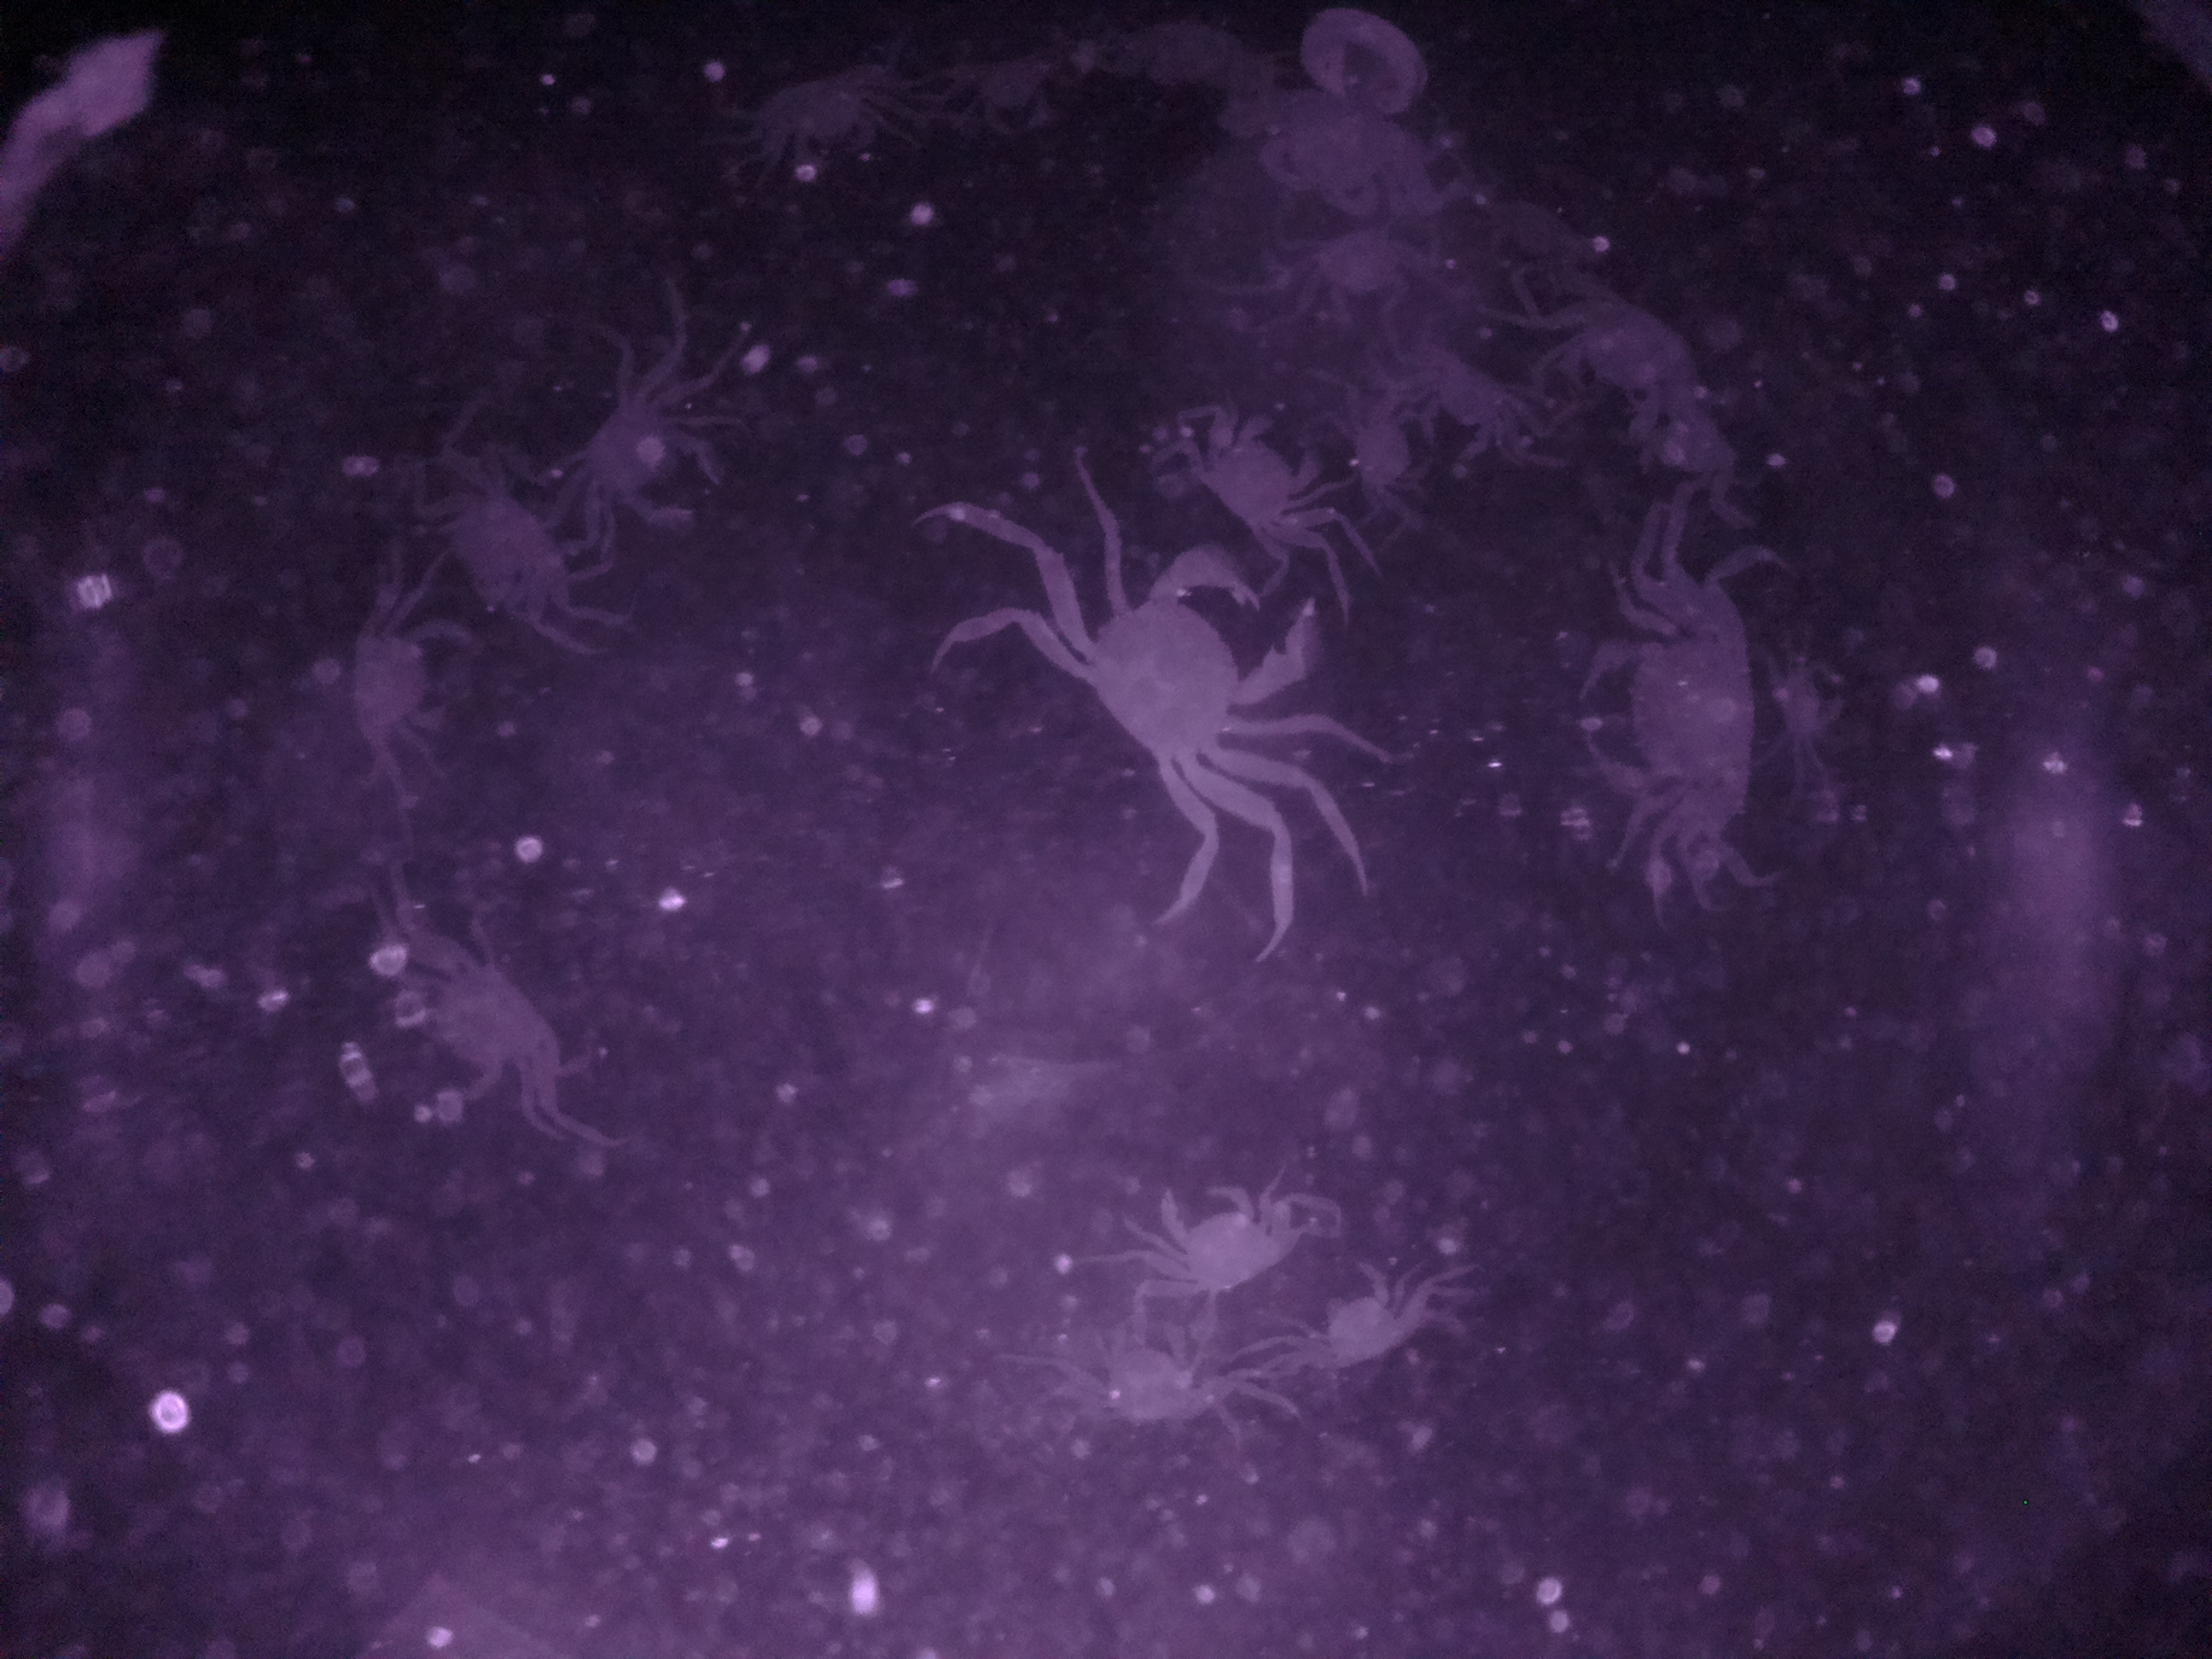Crab: (1019, 544, 1327, 810), (1566, 598, 1766, 859), (368, 939, 571, 1141), (549, 362, 737, 554), (1177, 390, 1366, 554), (329, 573, 475, 769), (1120, 1168, 1305, 1298), (1294, 1244, 1442, 1389)
